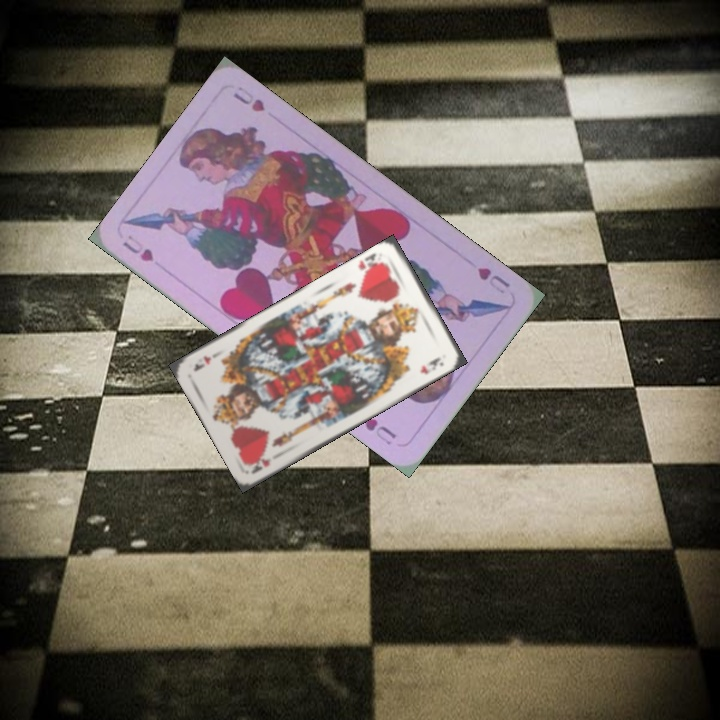HK: (354, 249, 387, 278), (244, 454, 273, 476)
HU: (473, 263, 513, 297), (118, 235, 156, 265)
